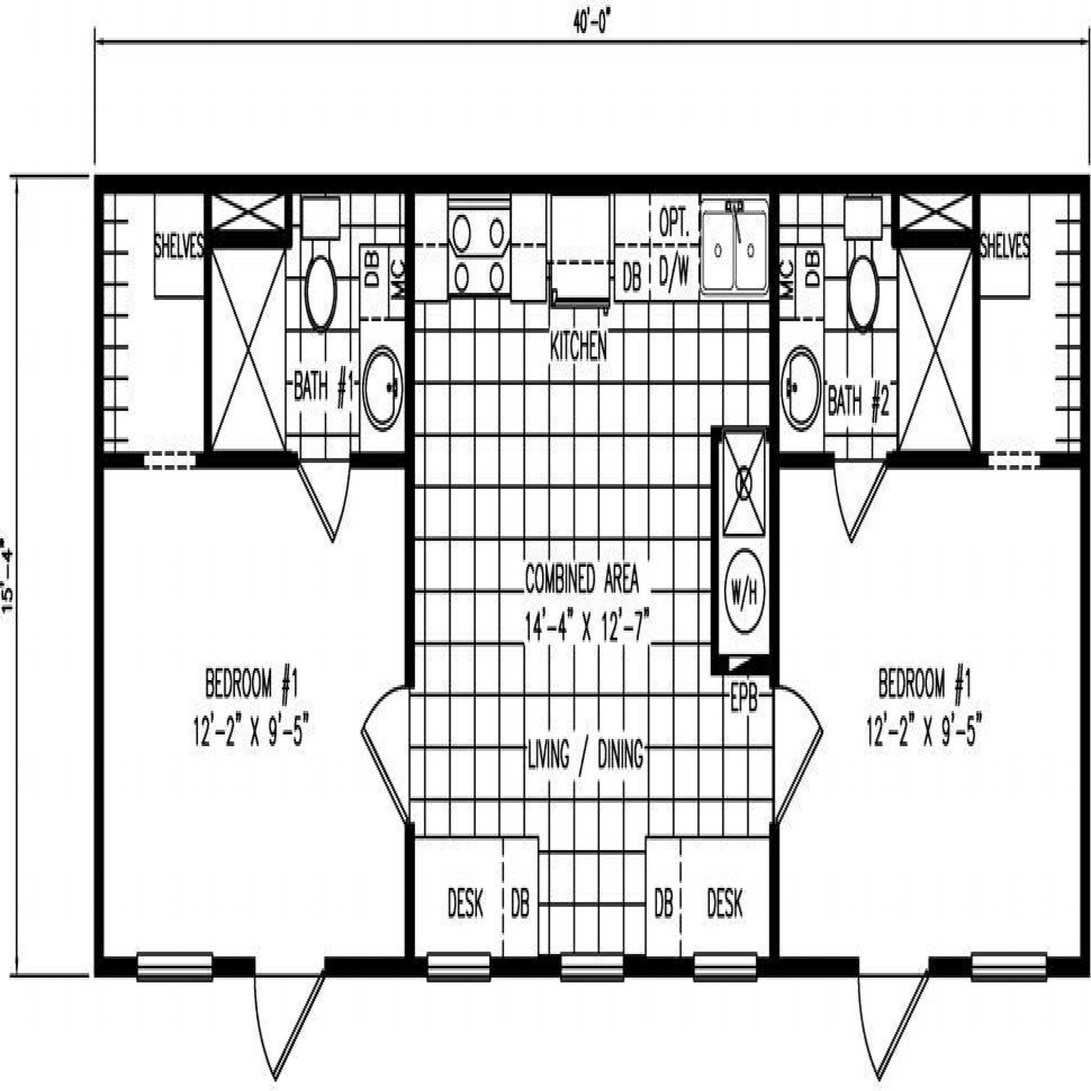wall: (94, 957, 1091, 979), (95, 175, 1089, 194), (93, 452, 415, 469), (404, 469, 415, 956), (770, 453, 1089, 469), (94, 469, 104, 957), (770, 469, 780, 957), (1081, 468, 1089, 957), (94, 194, 104, 455), (405, 194, 415, 453), (770, 195, 779, 453), (1081, 194, 1089, 453), (711, 424, 719, 653), (891, 230, 980, 248), (204, 249, 211, 452), (204, 232, 285, 249), (711, 654, 770, 676), (973, 249, 979, 450), (285, 193, 293, 246), (719, 426, 770, 433), (204, 194, 212, 233), (973, 194, 980, 231)
